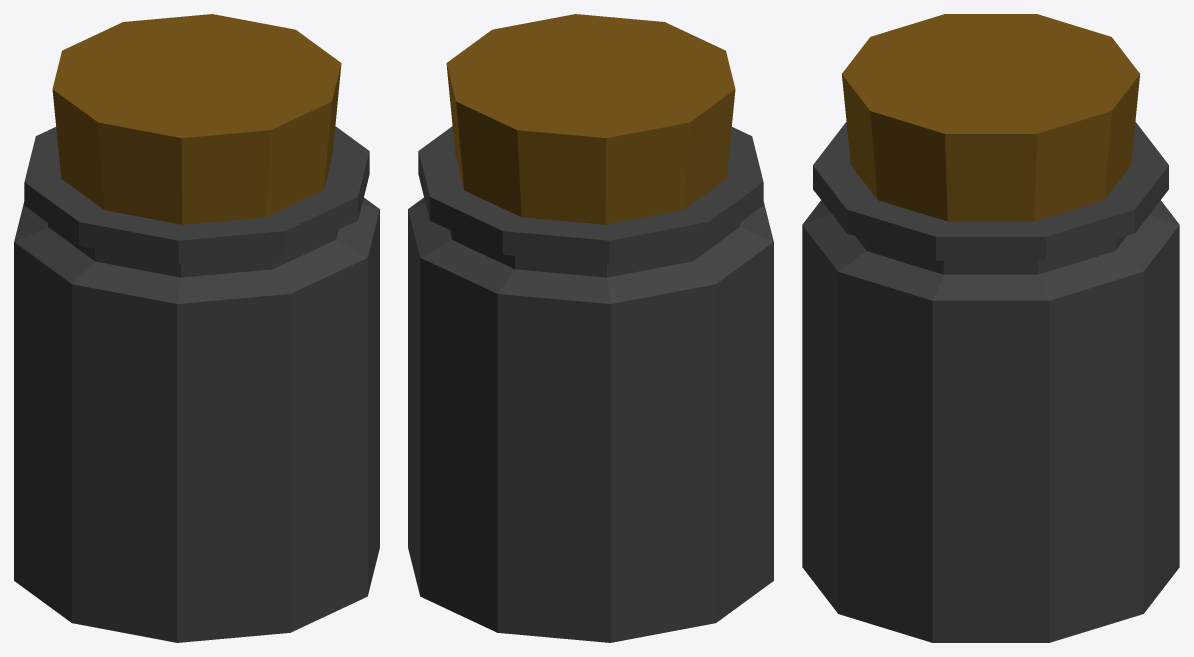
Rendered from inkcontainer.obj.
The picture shows the model from 3 angles, left to right: view 1: azimuth 30°, elevation 25°; view 2: azimuth 150°, elevation 25°; view 3: azimuth 270°, elevation 25°; orthographic projection.
Parts seen in each view (by area): view 1: Cylinder; view 2: Cylinder; view 3: Cylinder.
Boxes of the visible parts, bbox=[...] form: Cylinder: bbox=[14, 14, 379, 642]; Cylinder: bbox=[408, 14, 773, 642]; Cylinder: bbox=[802, 14, 1179, 642].
Size of the model in its own units: 0.0299 by 0.0453 by 0.0315.
